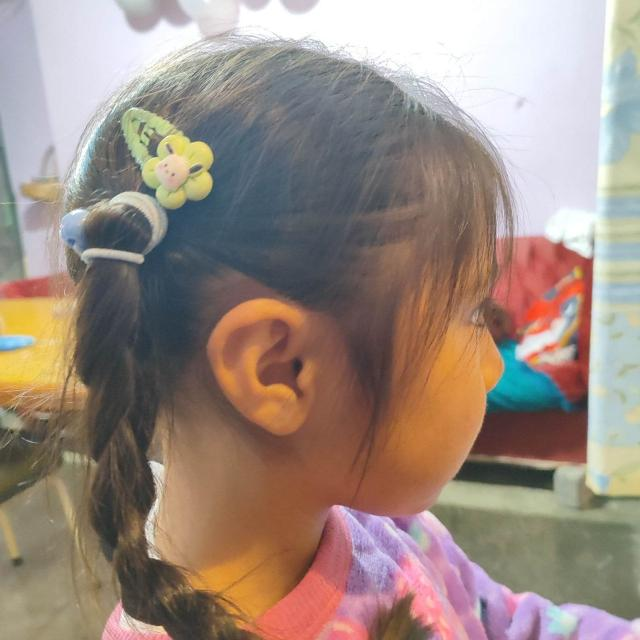ear: (206, 298, 315, 436)
